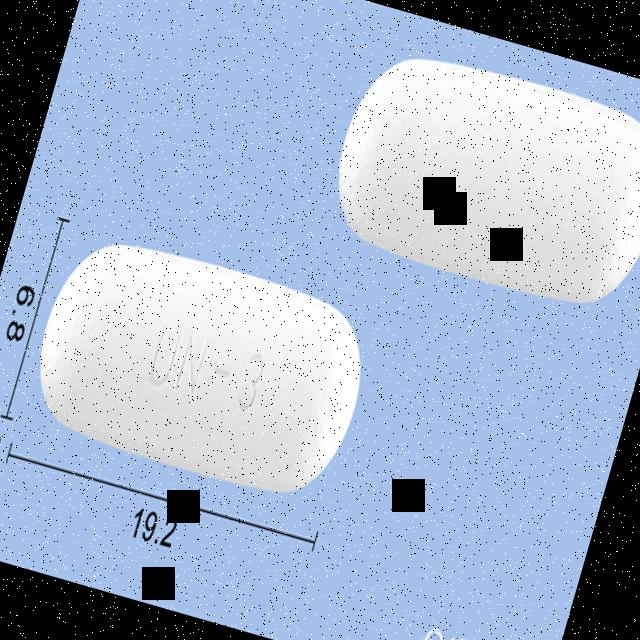Unasyn Tab: (17, 227, 380, 510)
